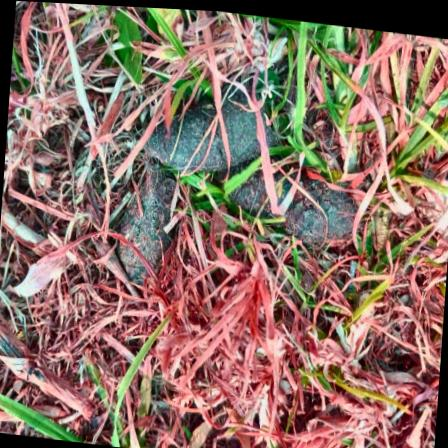dog-poop: (138, 57, 284, 184), (224, 165, 355, 250), (113, 173, 172, 291)
